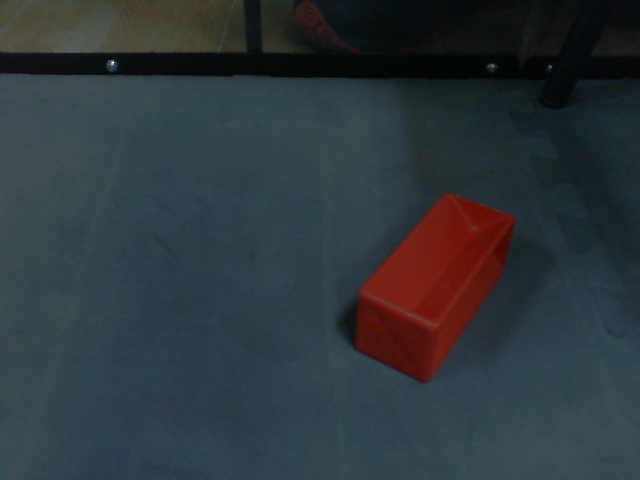RedSample: (350, 190, 518, 384)
